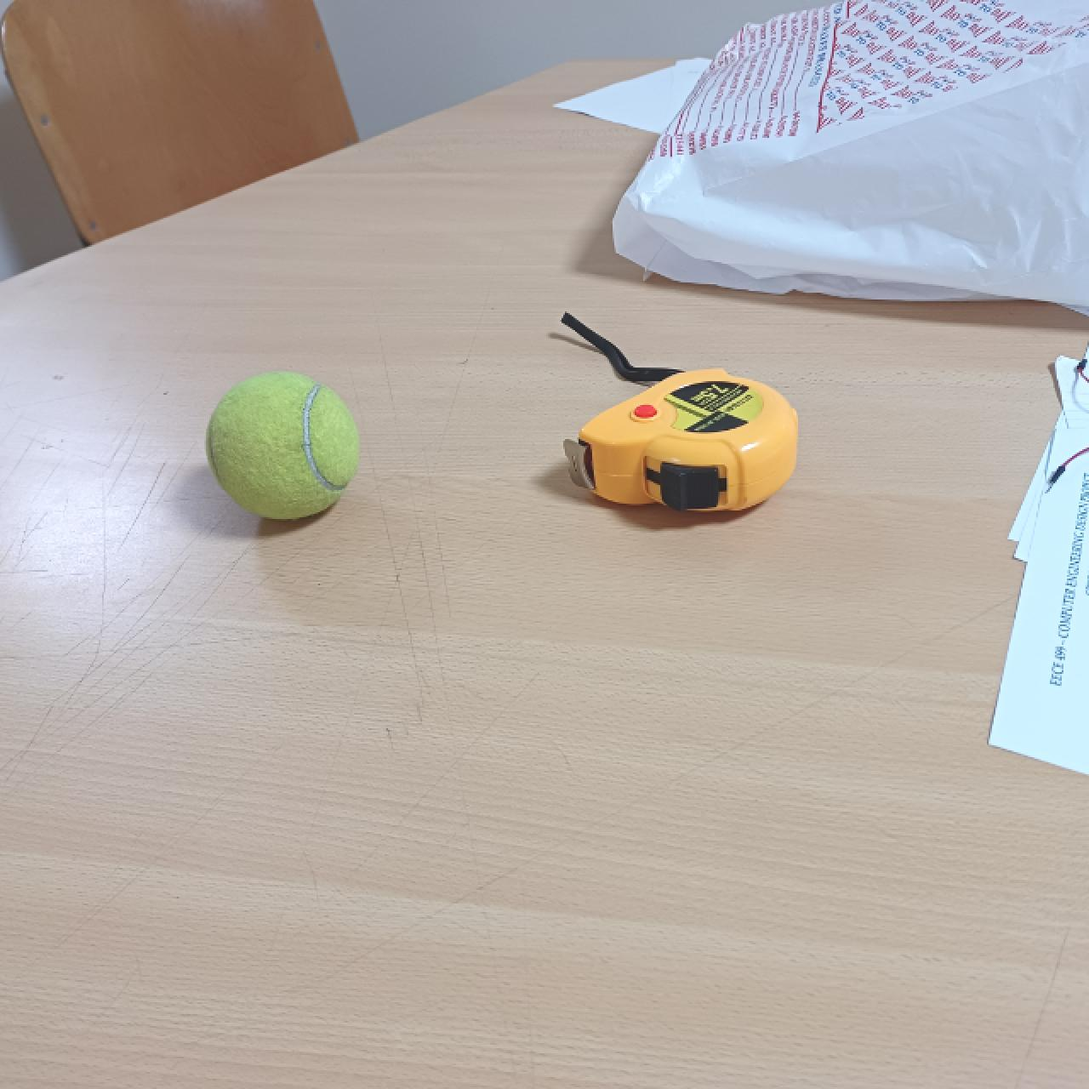tennis-ball: (207, 369, 363, 531)
